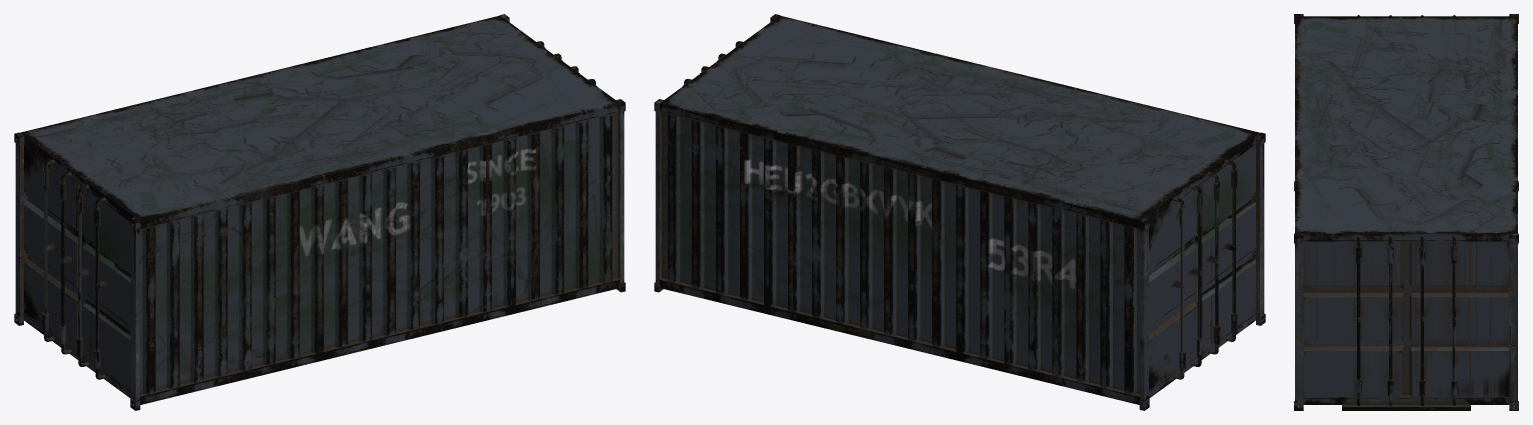
The model's file is cargo_container.glb.
3 views of the same model, side by side, from view 1: azimuth 30°, elevation 25°; view 2: azimuth 150°, elevation 25°; view 3: azimuth 270°, elevation 25° (orthographic). The views are drawn at different scales.
Visible parts, largest first — view 1: Mat_Cargo_Container-material, Mat_Cargo_Container_Back-material, Mat_Cargo_Container_Pole-material, Mat_Cargo_Container_Pipes-material; view 2: Mat_Cargo_Container-material, Mat_Cargo_Container_Back-material, Mat_Cargo_Container_Pole-material, Mat_Cargo_Container_Pipes-material; view 3: Mat_Cargo_Container-material, Mat_Cargo_Container_Back-material, Mat_Cargo_Container_Pole-material, Mat_Cargo_Container_Pipes-material, Mat_Cargo_Container_Rings-material.
Boxes of the visible parts, x1,y1,x2,y2 form: Mat_Cargo_Container-material: [20, 15, 620, 404]; Mat_Cargo_Container_Back-material: [24, 145, 130, 389]; Mat_Cargo_Container_Pole-material: [14, 14, 625, 410]; Mat_Cargo_Container_Pipes-material: [42, 41, 595, 379]; Mat_Cargo_Container-material: [659, 15, 1259, 404]; Mat_Cargo_Container_Back-material: [1149, 145, 1255, 389]; Mat_Cargo_Container_Pole-material: [654, 14, 1265, 410]; Mat_Cargo_Container_Pipes-material: [683, 41, 1237, 379]; Mat_Cargo_Container-material: [1295, 16, 1517, 410]; Mat_Cargo_Container_Back-material: [1303, 241, 1509, 396]; Mat_Cargo_Container_Pole-material: [1294, 14, 1518, 410]; Mat_Cargo_Container_Pipes-material: [1355, 15, 1457, 405]; Mat_Cargo_Container_Rings-material: [1352, 313, 1460, 321].
Size of the model in its own units: 6.27 by 2.25 by 2.62.
Materials: 5 (5 with a texture image).
